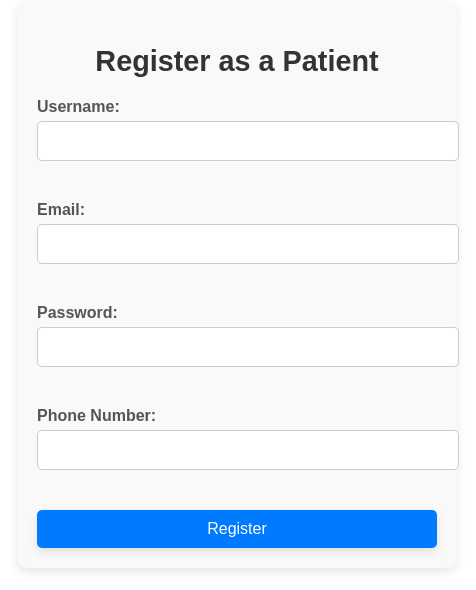
Test case: PatientRegister Component › disables submit button when loading
Note: Fill out form
Type "JohnDoe" into the field labelled "Username:" at (248, 141), box [37,121,459,161]
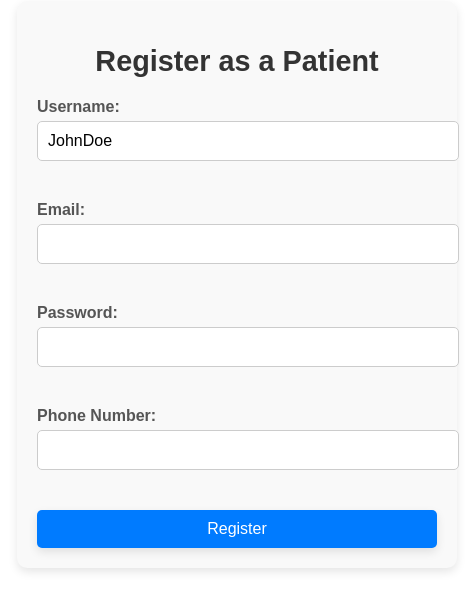
Type "john.doe@example.com" into the field labelled "Email:" at (248, 244), box [37,224,459,264]
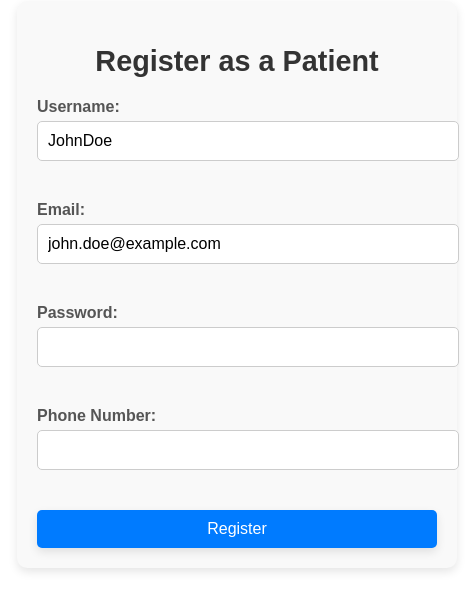
Type "password123" into the password field labelled "Password:" at (248, 347), box [37,327,459,367]
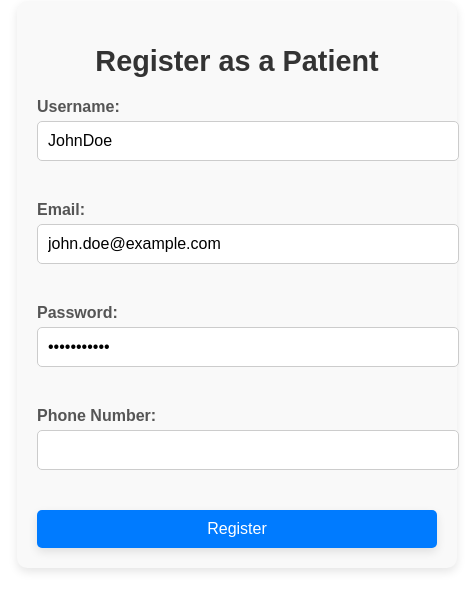
Type "1234567890" into the field labelled "Phone Number:" at (248, 450), box [37,430,459,470]
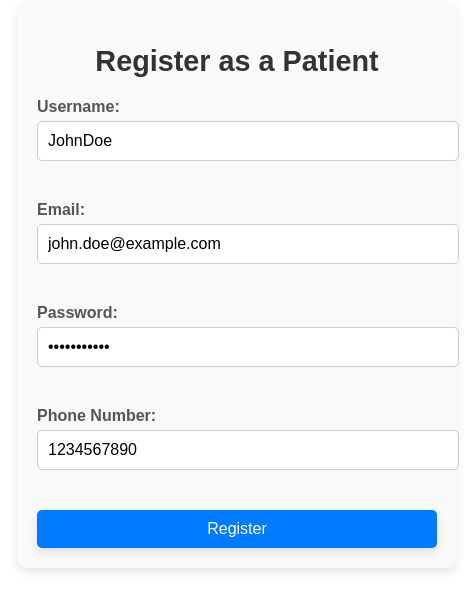
Note: Submit form
Click the button "Register" at (237, 529), box [37,510,437,548]
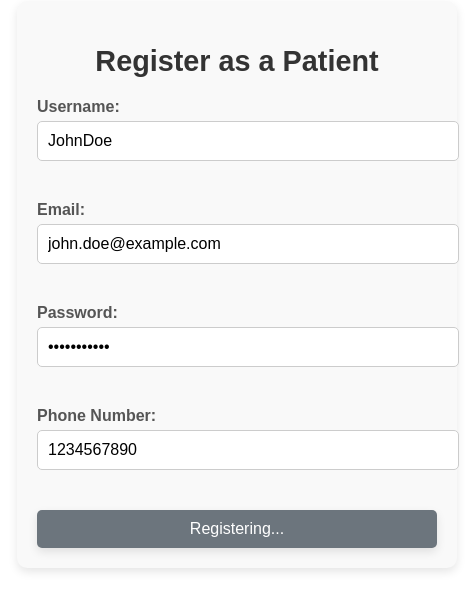
Result: the button "Registering..." is shown at [37,510,437,548]
Result: the button "Registering..." is disabled at [37,510,437,548]
